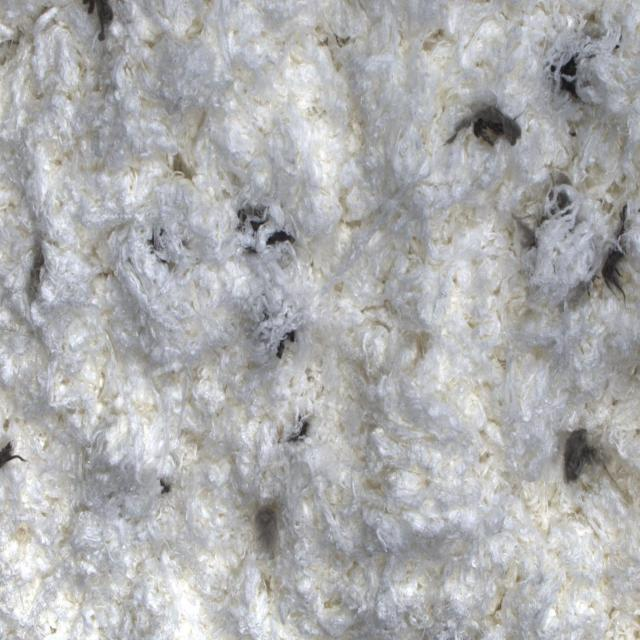dust: (511, 166, 640, 331), (547, 0, 640, 112), (549, 405, 640, 513), (7, 211, 71, 311), (447, 94, 524, 161), (236, 195, 302, 272), (272, 393, 317, 491), (76, 0, 127, 56), (256, 303, 302, 362), (252, 492, 283, 572), (140, 228, 180, 273), (1, 421, 28, 485)
